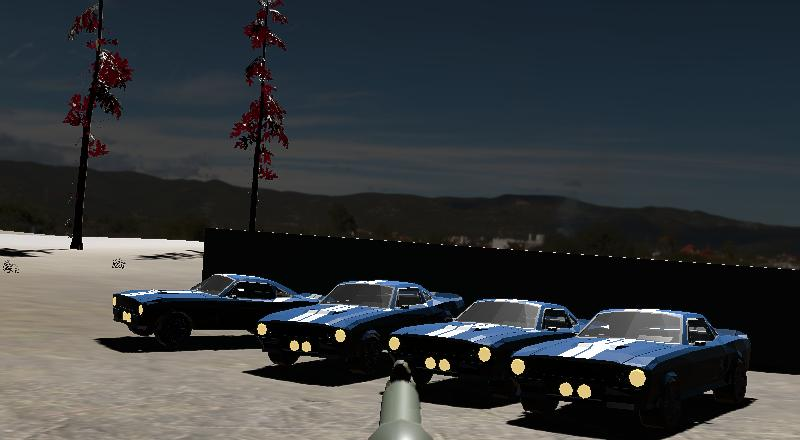car: (507, 305, 756, 433), (255, 275, 469, 375), (388, 293, 588, 394), (108, 268, 318, 351)
